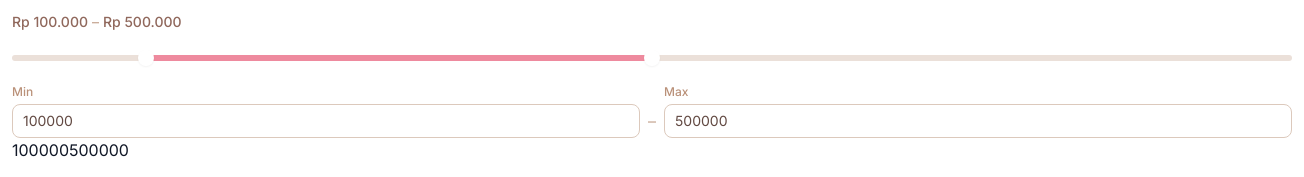
Test case: PriceRangeSlider – integration (controlled) › updates displayed range when max slider changes
Step 1. Set the slider with test id "price-range-max-slider" to "800000" → x=1031, y=58, box 12,48 -> 1292,68
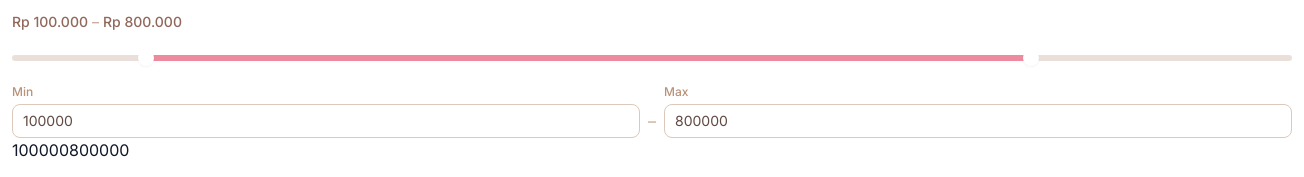
Now the text with test id "output-max" reads "800000", box 69,140 -> 129,160
